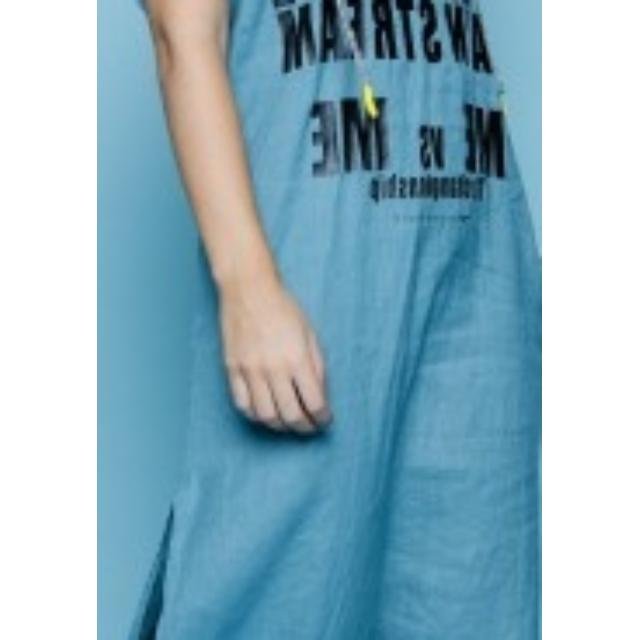linen: (345, 208, 529, 640)
